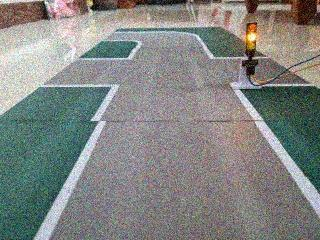yellow: (237, 16, 269, 60)
